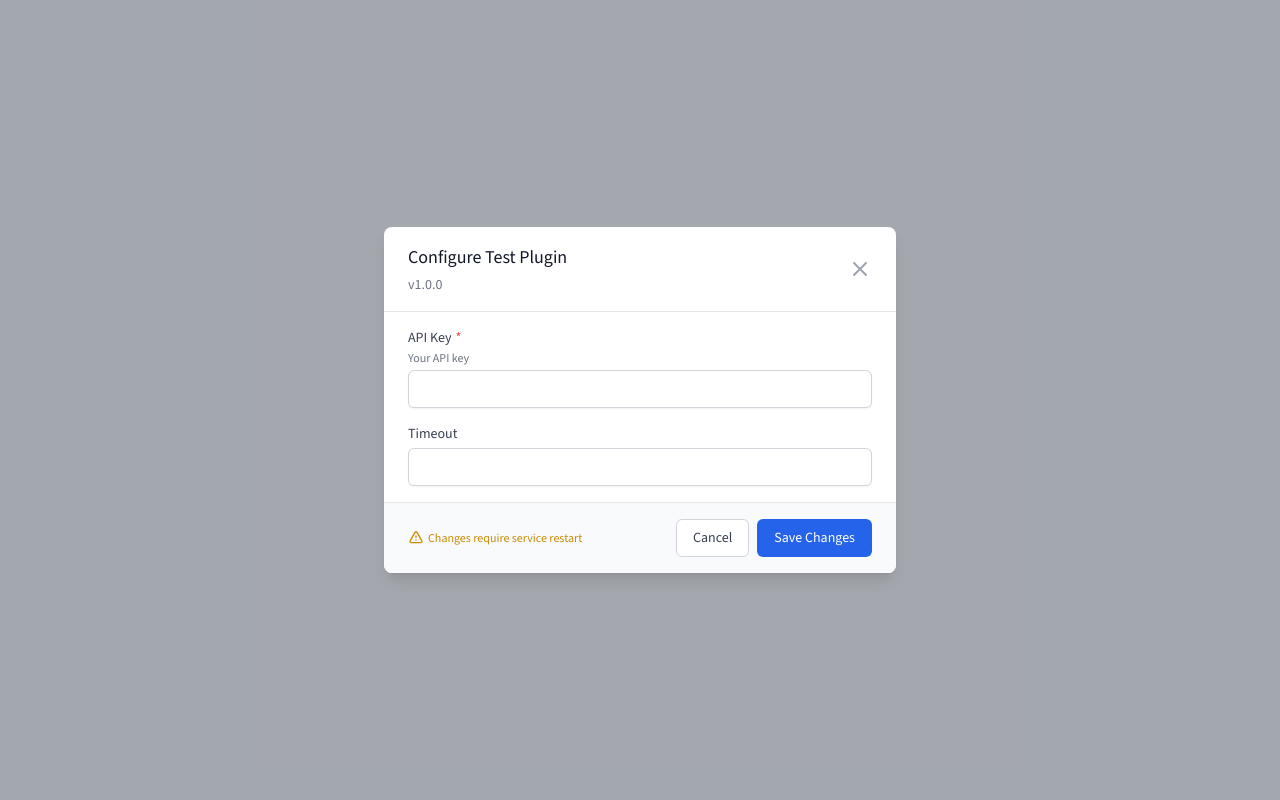
Test: PluginConfigModal › validation › shows validation error for required field
The image size is (1280, 800).
Click the button "Save Changes": (815, 538) [757, 519, 872, 557]
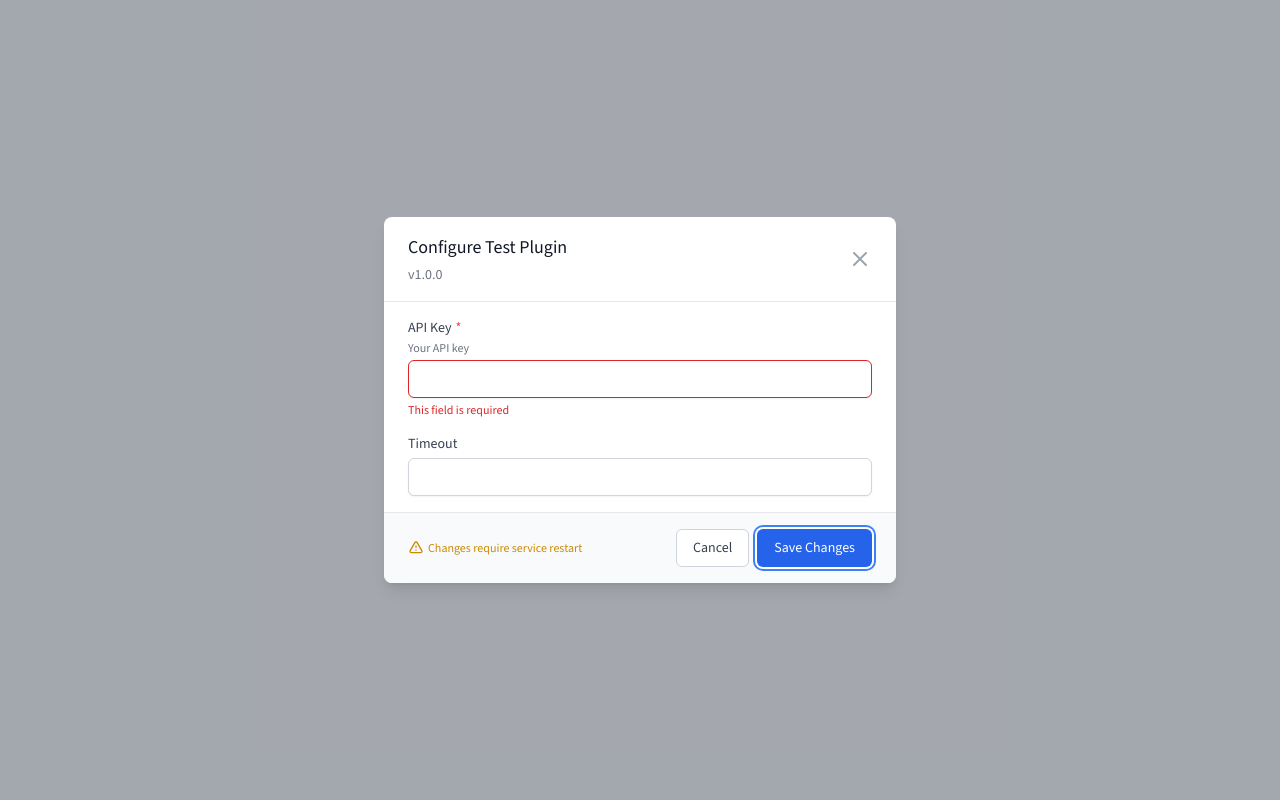
Expected: the text "This field is required" is shown, [408, 402, 509, 418]
